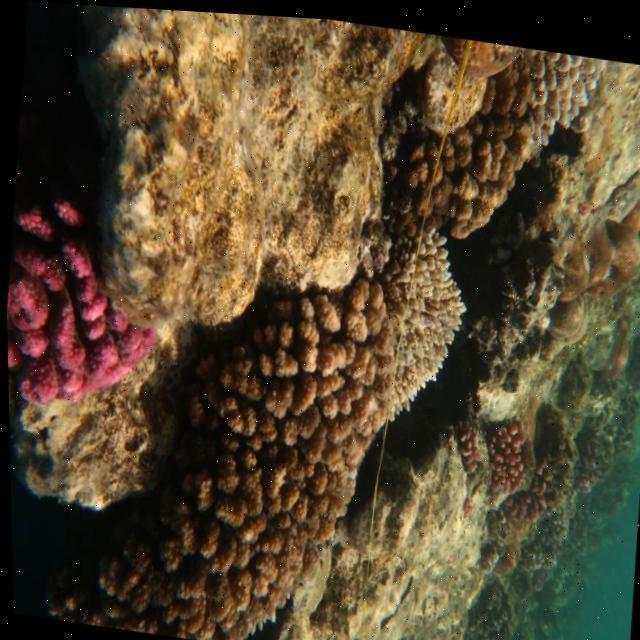Healthy Coral: (198, 273, 385, 640), (3, 168, 171, 442), (373, 79, 532, 259)
